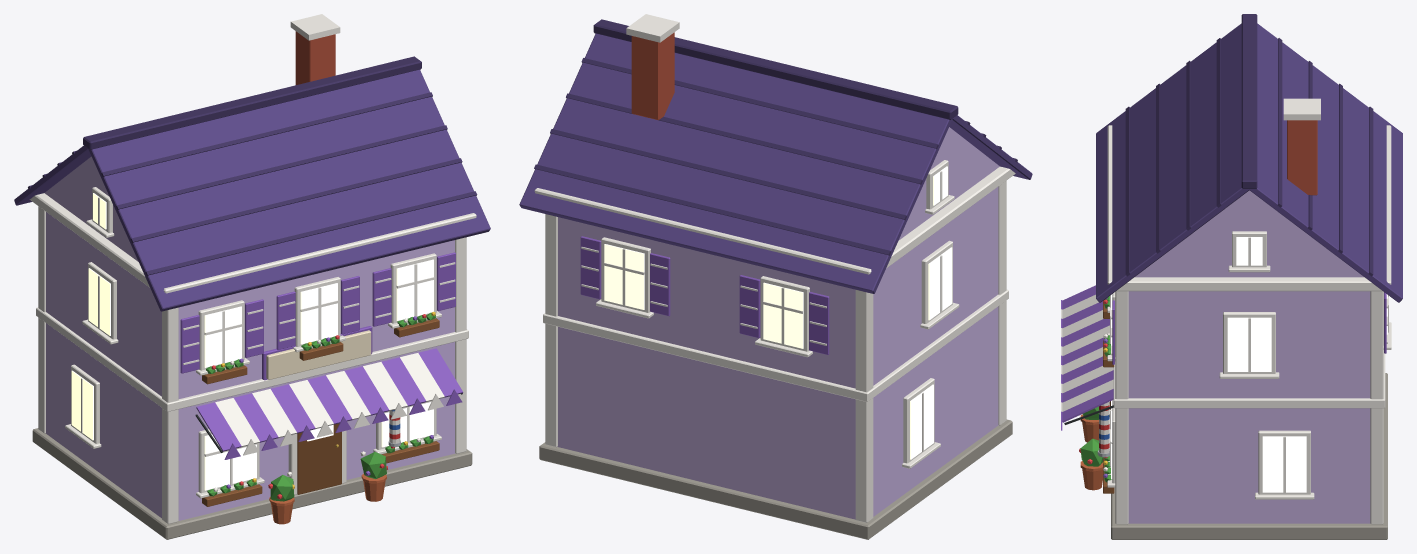
File: harbor_house_salon_v01.glb
The picture shows the model from 3 angles, left to right: view 1: azimuth 30°, elevation 25°; view 2: azimuth 150°, elevation 25°; view 3: azimuth 270°, elevation 25°; orthographic projection. The views are drawn at different scales.
Visible parts, largest first — view 1: house_salon; view 2: house_salon; view 3: house_salon.
Part boxes in pixels (bbox=[...]): house_salon: bbox=[14, 14, 490, 539]; house_salon: bbox=[519, 14, 1032, 539]; house_salon: bbox=[1061, 14, 1402, 539].
Size of the model in its own units: 9 by 10.07 by 7.77.
